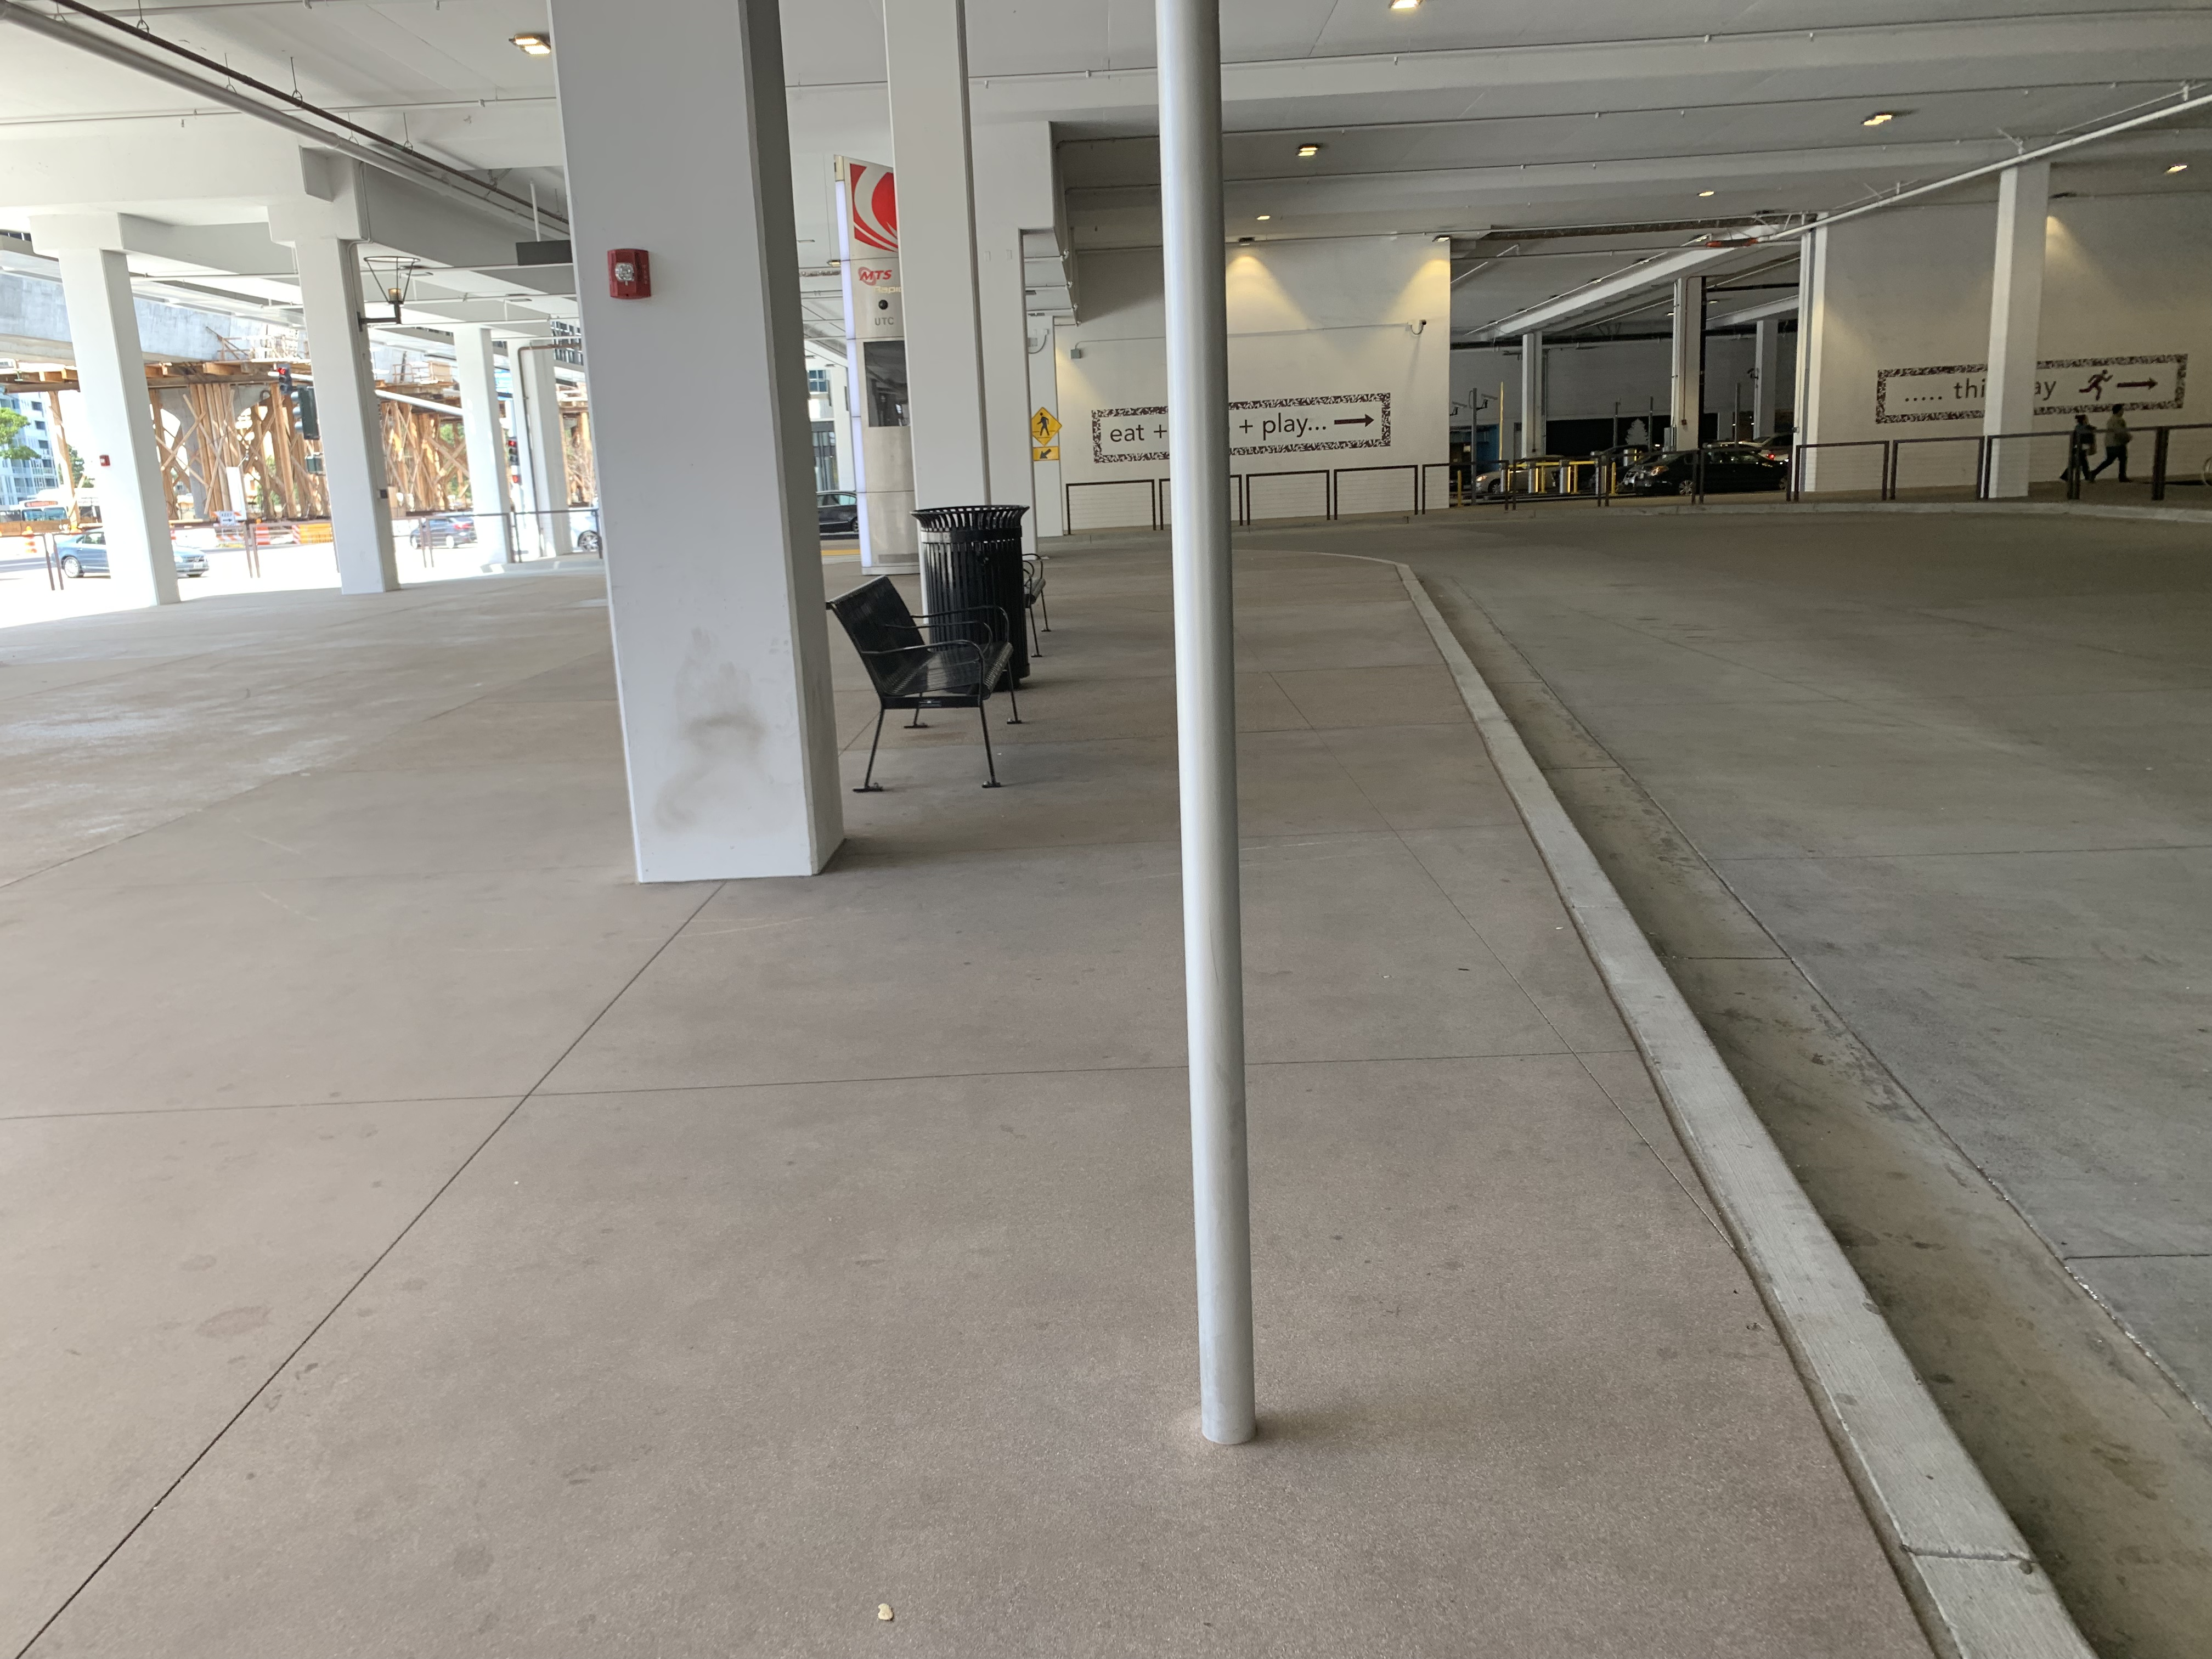Edge: (1395, 532, 2097, 1652)
Obstacle: (542, 2, 853, 903), (1141, 5, 1305, 1473), (833, 493, 1047, 795)
